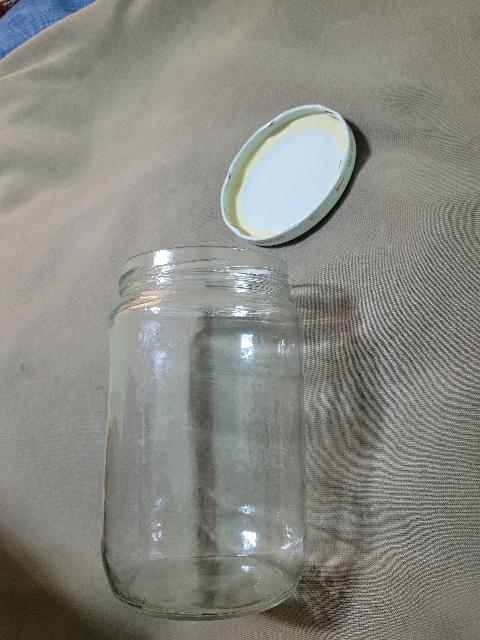Kagit: (103, 251, 303, 611)
Plastik: (215, 105, 361, 243)
